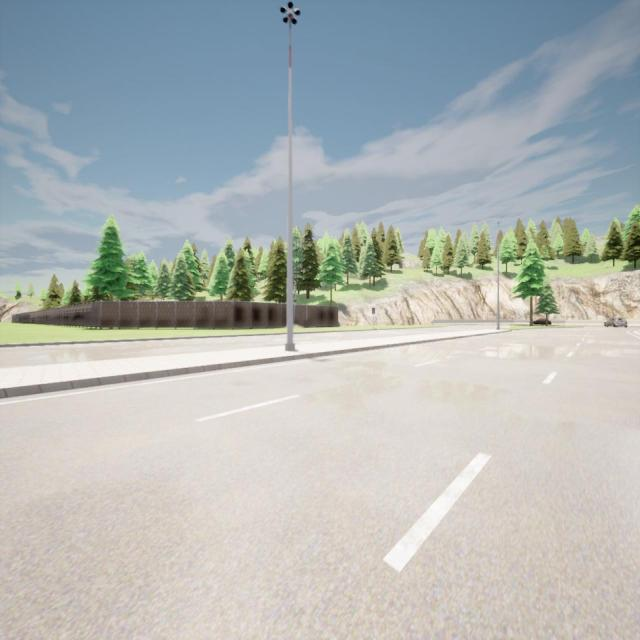Traffic_Signs: (372, 308, 375, 314)
Vehicle: (604, 317, 628, 327), (533, 318, 552, 326)
